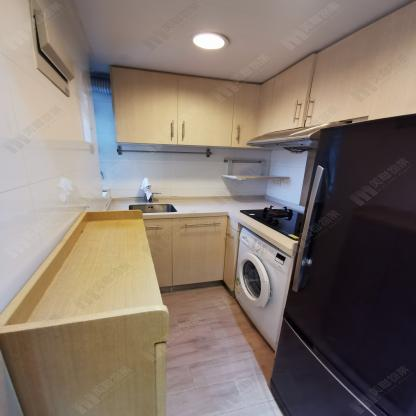Cupboard: (110, 2, 414, 148), (143, 214, 240, 292)
Exhaust Hood: (246, 121, 348, 157)
Faucet: (138, 176, 161, 203)
Fridge: (268, 114, 414, 416)
Sink: (128, 203, 178, 213)
Stove: (240, 203, 303, 239)
Washing Machine: (234, 226, 293, 352)
